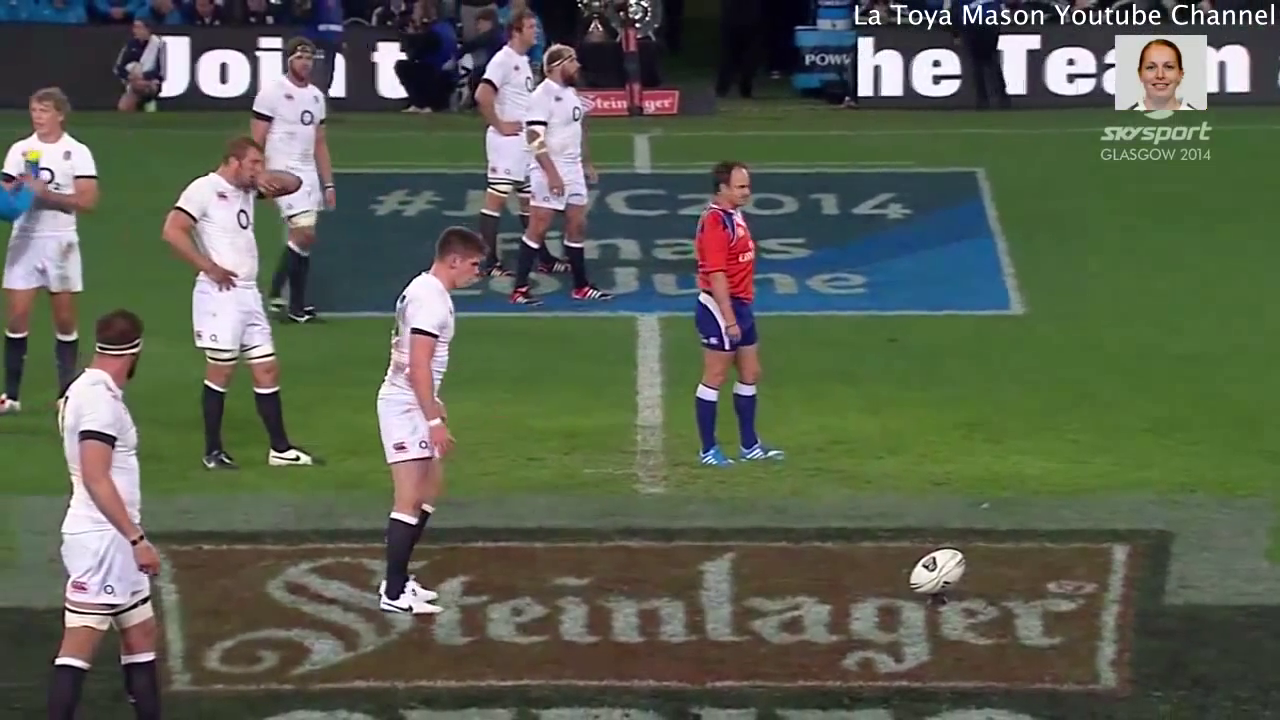ball: (897, 532, 981, 616)
player: (150, 127, 350, 487), (353, 220, 504, 638), (38, 299, 171, 720), (229, 23, 362, 349), (671, 148, 796, 480), (446, 6, 585, 296), (498, 43, 631, 317), (1, 78, 109, 408)
